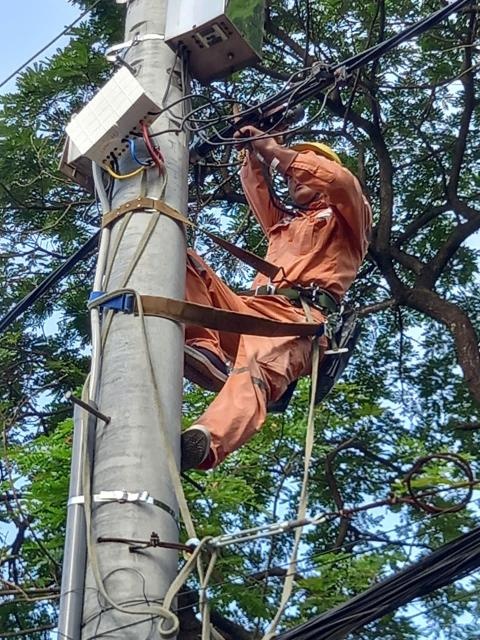gloves: (229, 127, 299, 176)
harness: (238, 272, 361, 321)
helmet: (295, 123, 357, 170)
shoes: (164, 422, 227, 482), (167, 336, 229, 388)
